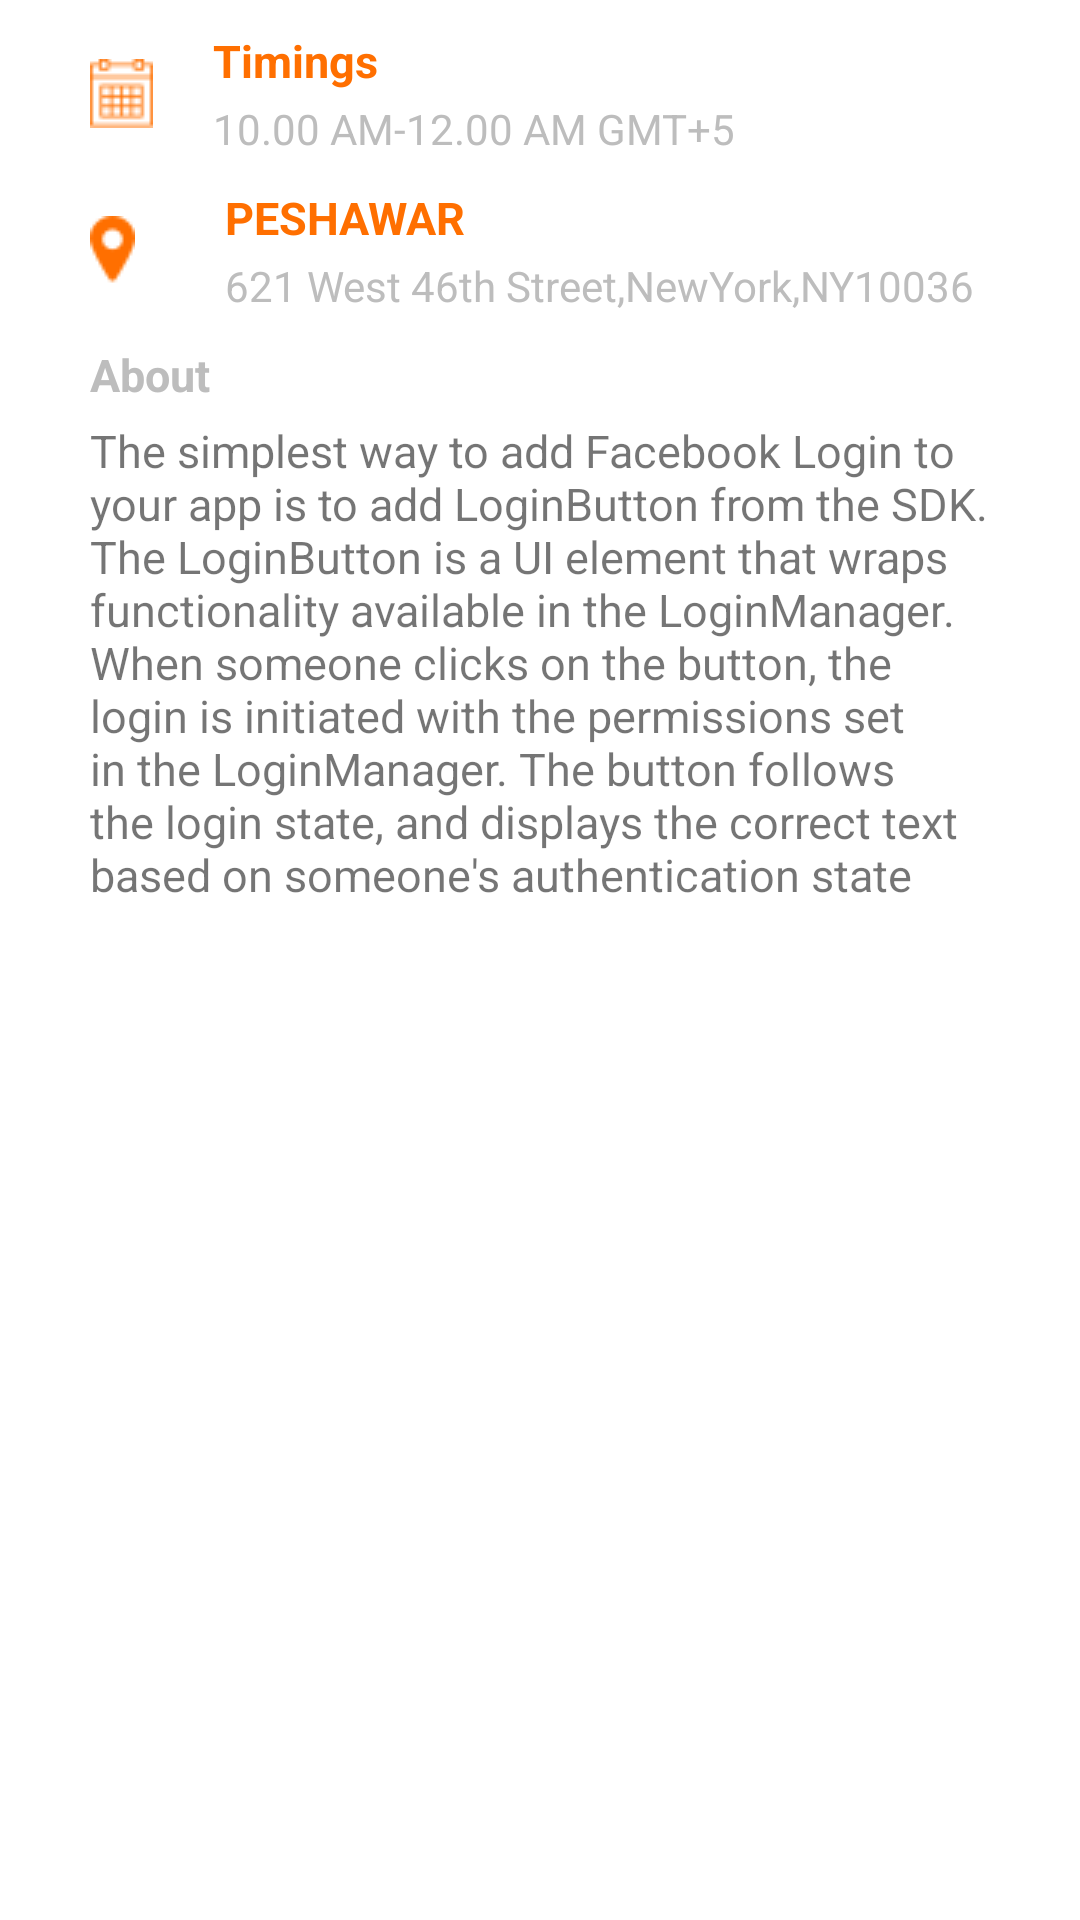

Icons on this 1080×1920 Android screen, each with its box as (x1, y1, x2, y2):
calendar: (90, 59, 153, 128)
locationicon: (90, 216, 135, 283)
